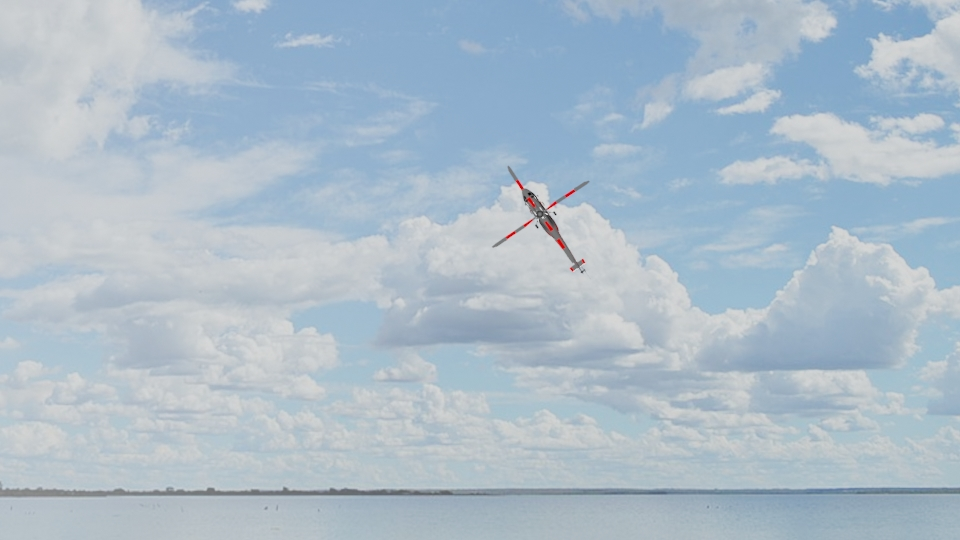heli: (492, 164, 592, 276)
